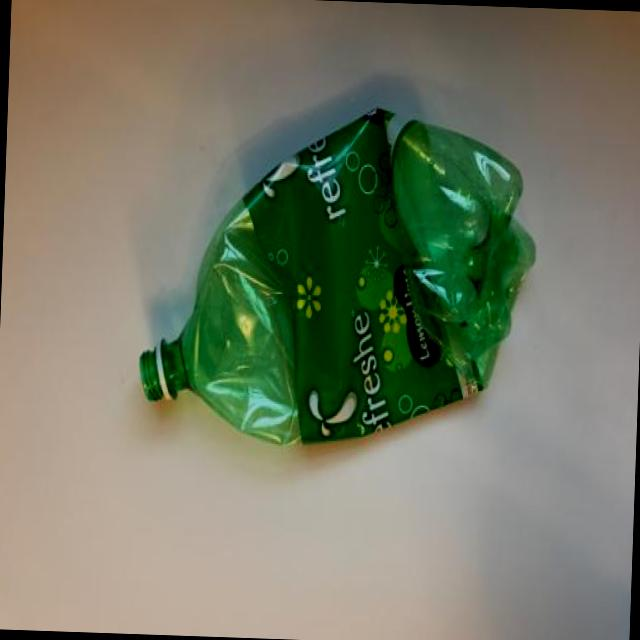Trash: (131, 89, 543, 454)
